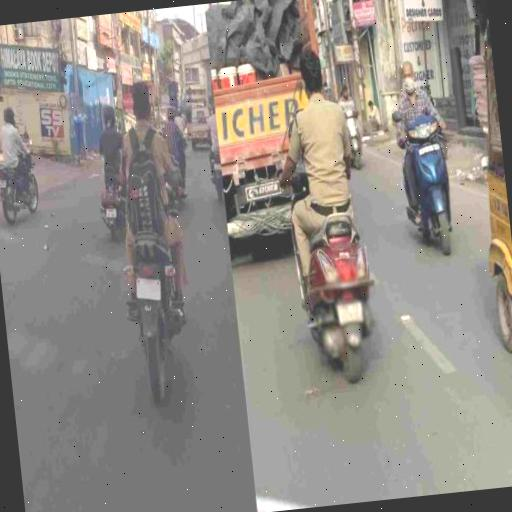helmet: (0, 92, 41, 218)
no helmet: (264, 32, 388, 386), (103, 62, 208, 425), (380, 46, 467, 301), (90, 95, 133, 231)
